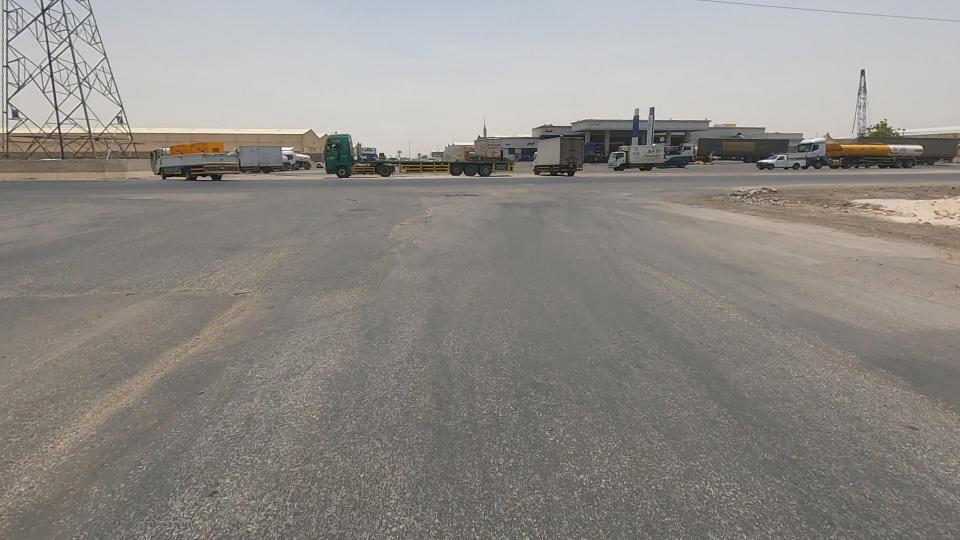GARBAGE: (692, 154, 804, 242)
POTHOLES: (415, 172, 501, 224)
